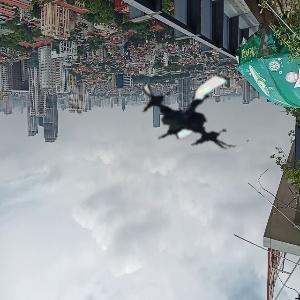drone: (142, 54, 256, 168)
